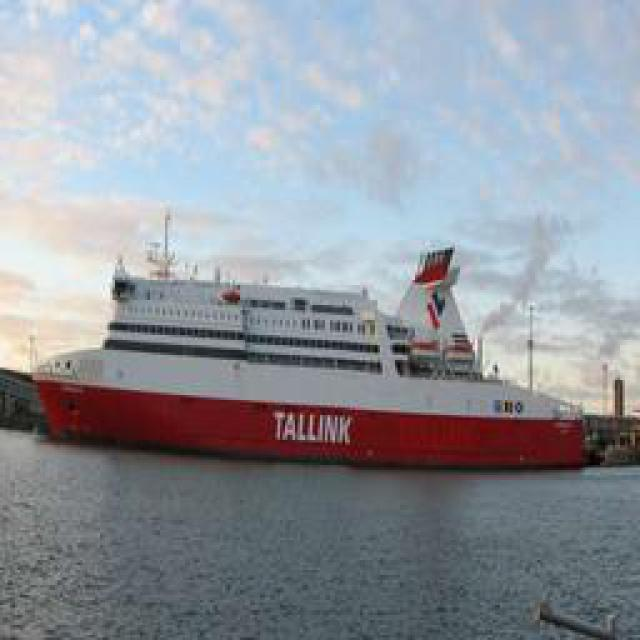Ship: (31, 249, 594, 464)
